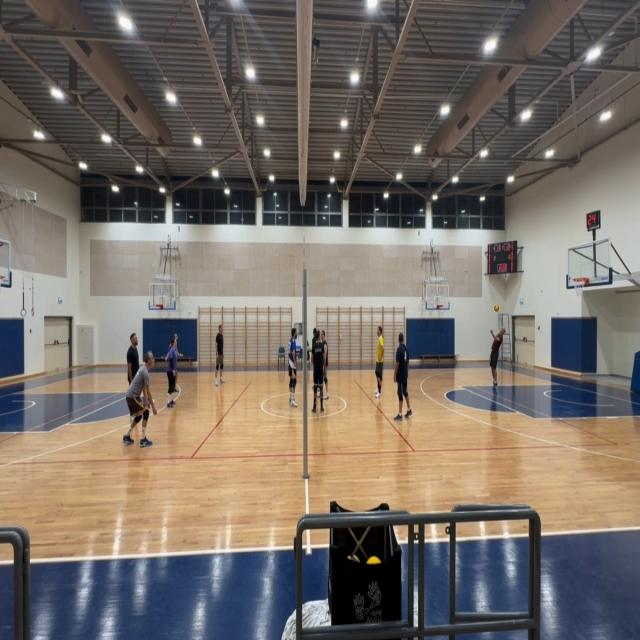volleyball: (494, 303, 499, 312)
